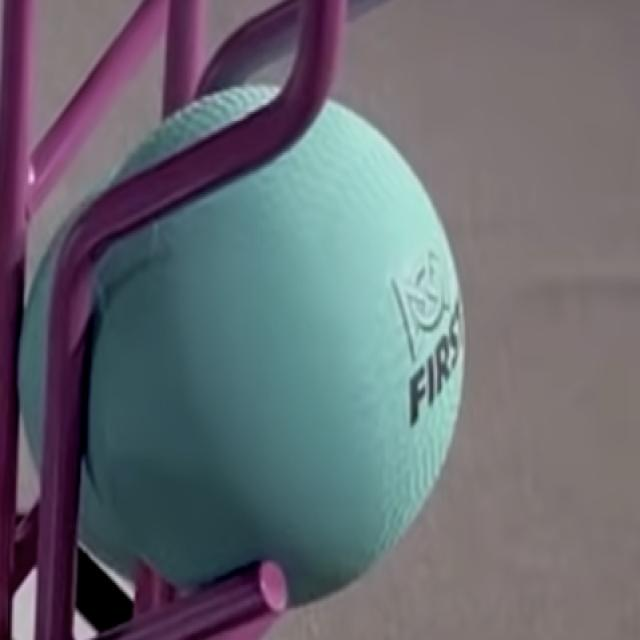Algae: (19, 87, 465, 615)
Reef: (19, 0, 171, 222), (87, 560, 288, 640), (8, 499, 40, 595)
